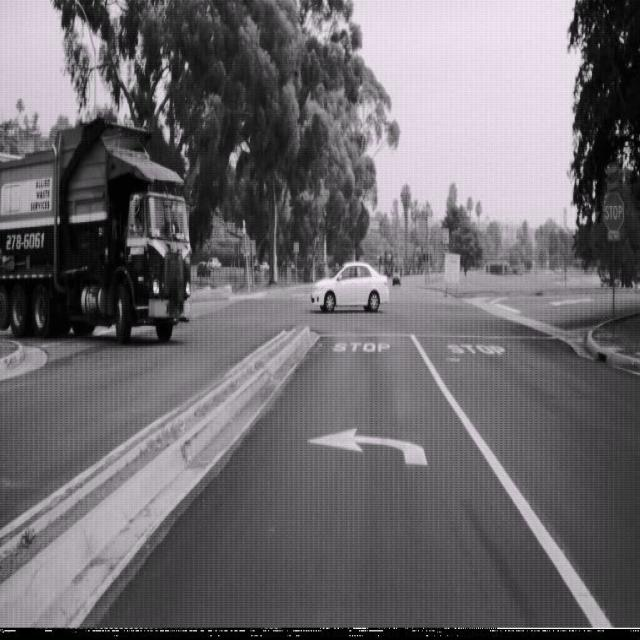stop: (602, 190, 624, 233)
